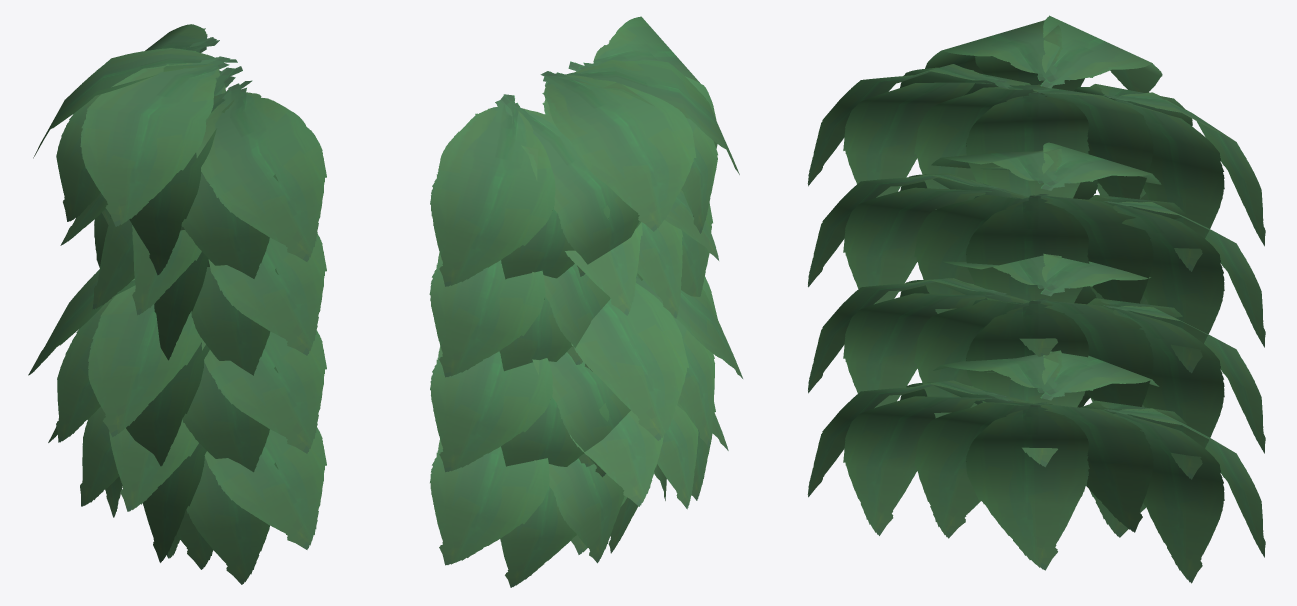
Rendered from Vegetation at walls.fbx.
3 views of the same model, side by side, from view 1: azimuth 30°, elevation 25°; view 2: azimuth 150°, elevation 25°; view 3: azimuth 270°, elevation 25° (orthographic). The views are drawn at different scales.
Parts seen in each view (by area): view 1: pPlane20; view 2: pPlane20; view 3: pPlane20.
Boxes of the visible parts, <box> form: pPlane20: <box>28,24,326,584</box>; pPlane20: <box>429,16,742,587</box>; pPlane20: <box>807,15,1265,583</box>.
Size of the model in its own units: 85.81 by 155 by 130.
Materials: 1 (1 with a texture image).
